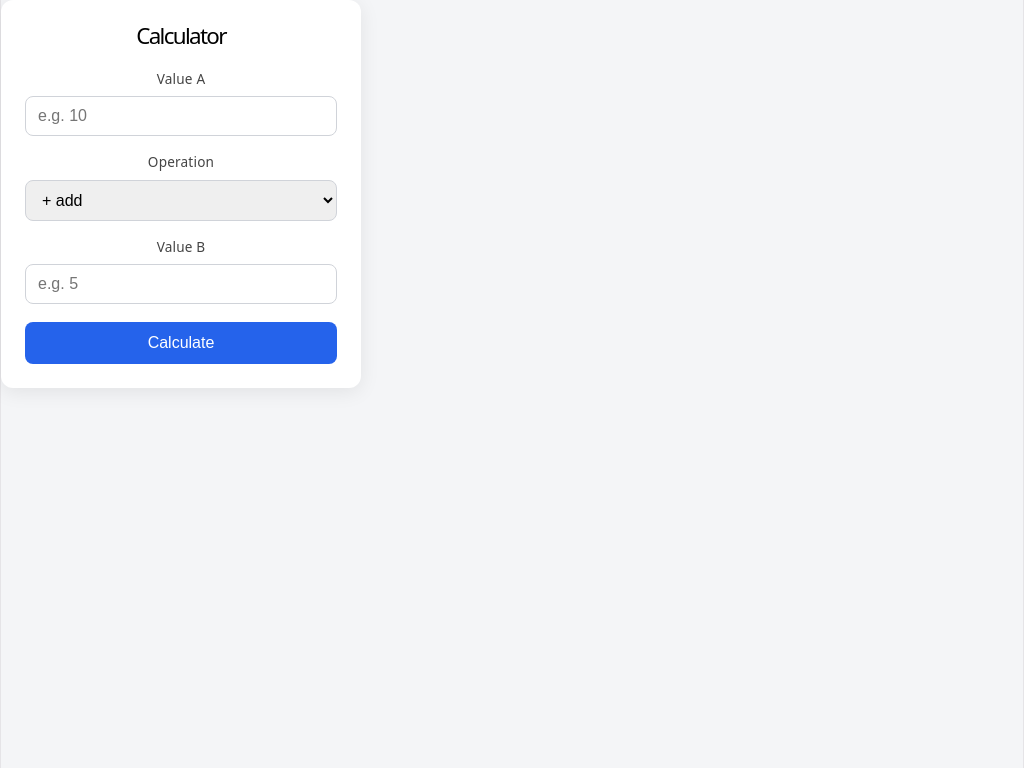
Test: Calculator › shows an API error message (e.g. division by zero)
Type "5" into the field labelled "Value A" at (181, 116), box [25,96,337,136]
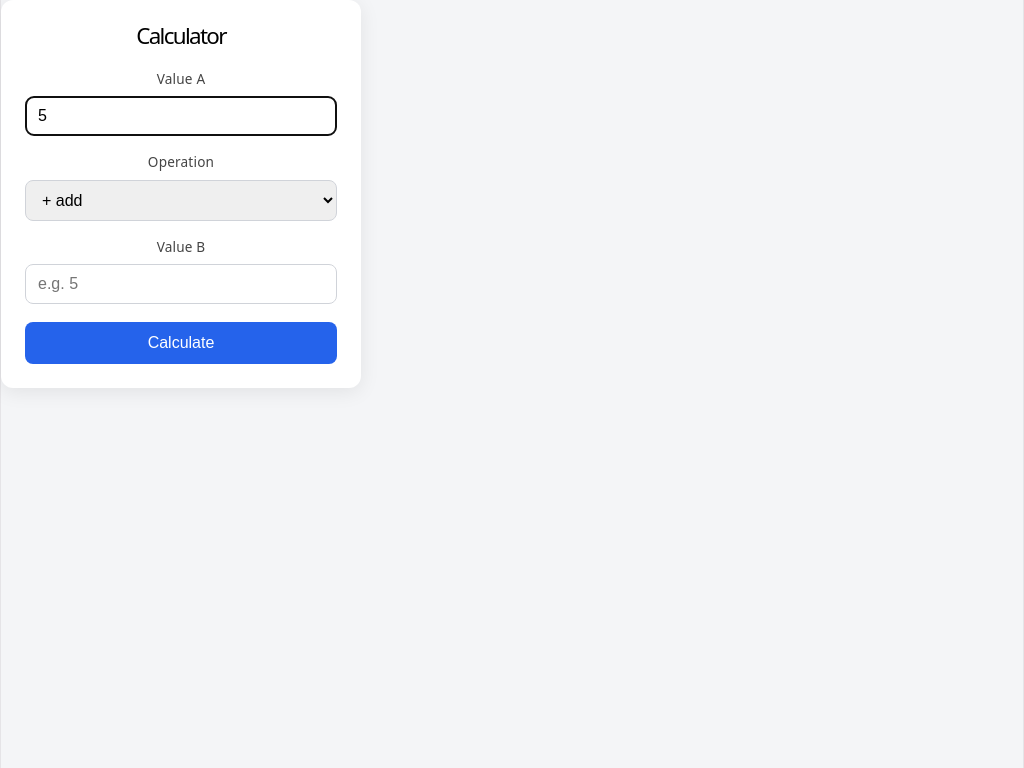
Type "0" into the field labelled "Value B" at (181, 284), box [25,264,337,304]
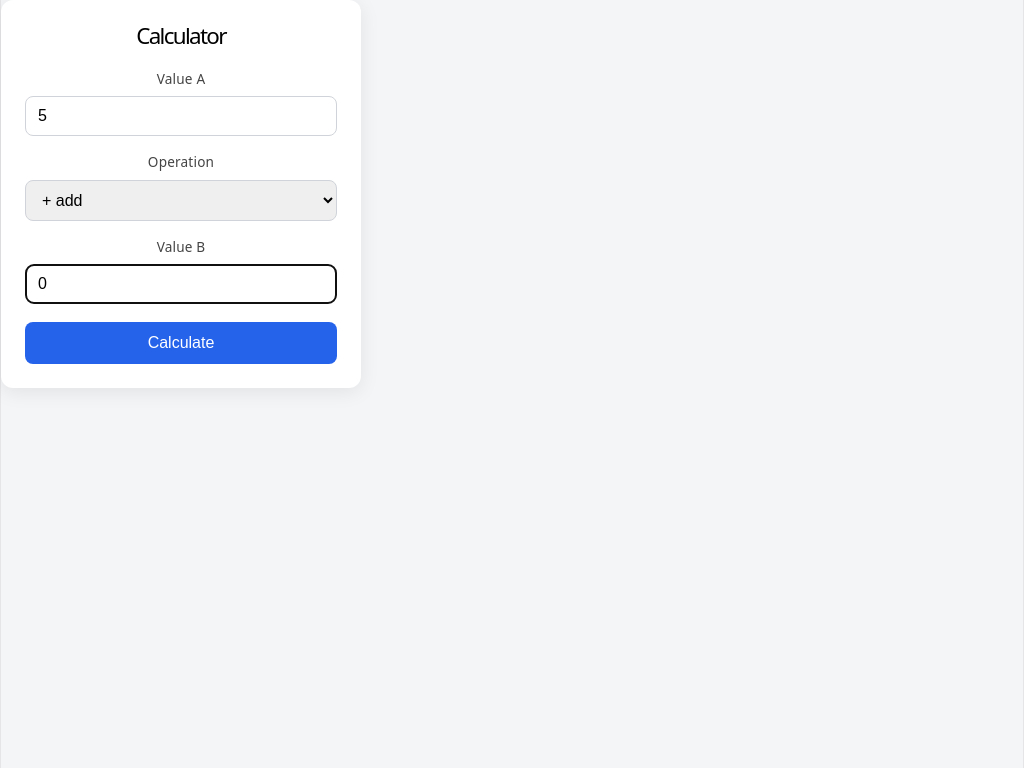
Click the button "Calculate" at (181, 343), box [25,322,337,364]
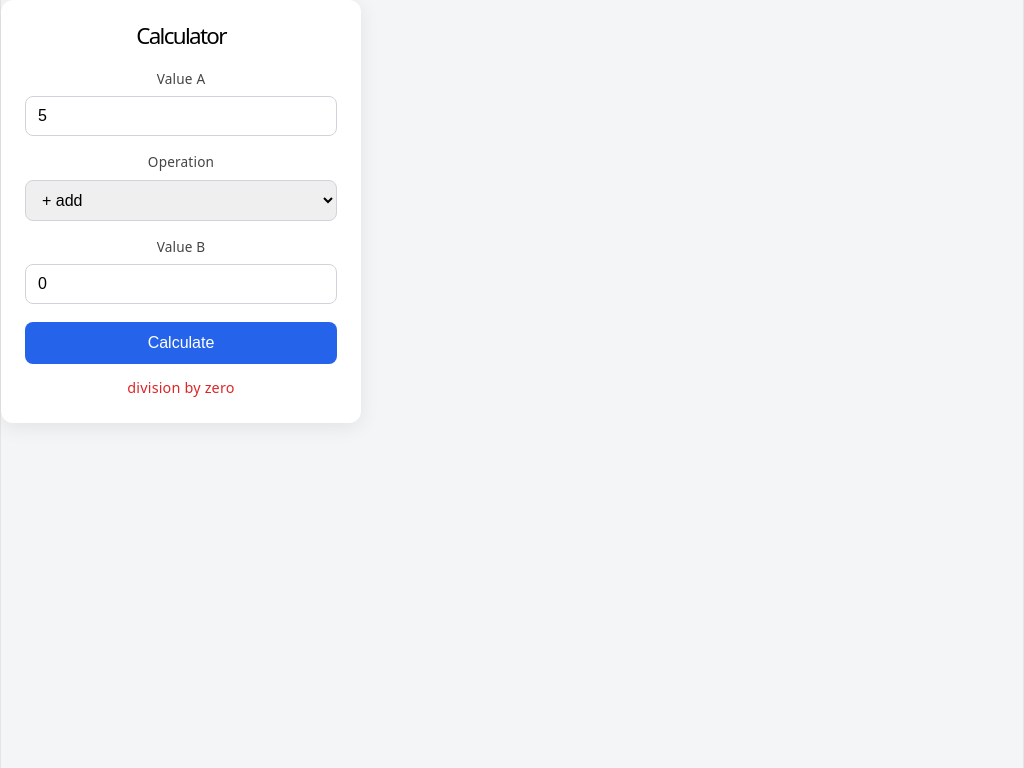
Expected: the message reads "division by zero", [127,378,235,397]
